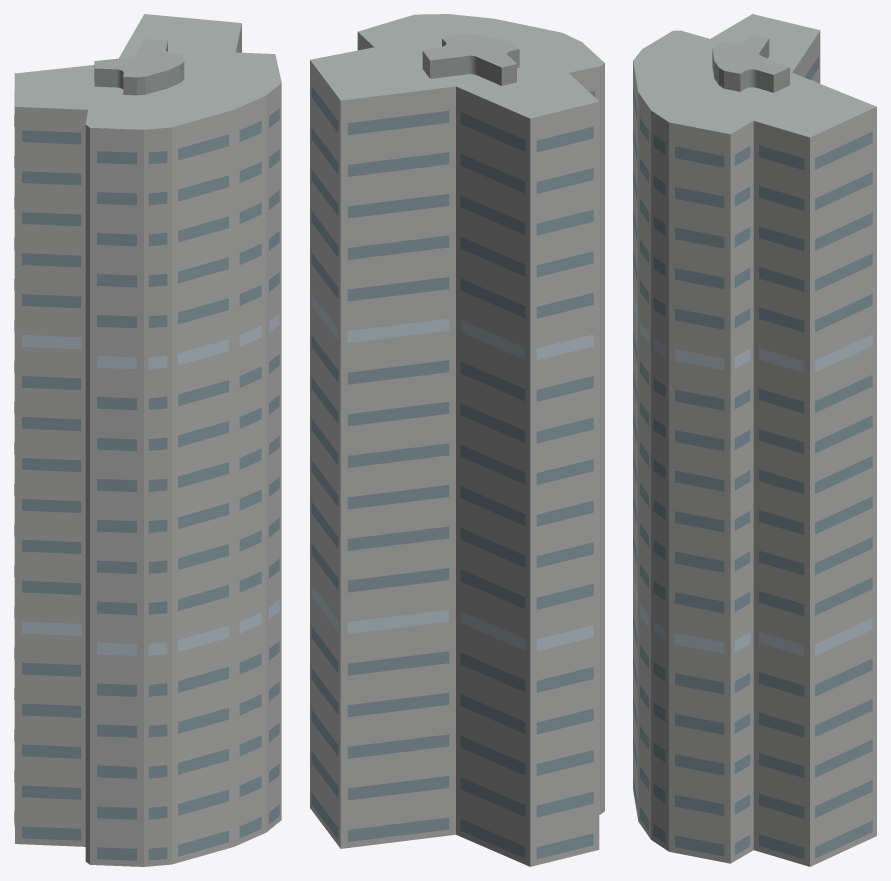
File: fallback-jamsil-parkrio-114.glb
The picture shows the model from 3 angles, left to right: view 1: azimuth 30°, elevation 25°; view 2: azimuth 150°, elevation 25°; view 3: azimuth 270°, elevation 25°; orthographic projection. The views are drawn at different scales.
Parts seen in each view (by area): view 1: fallback-jamsil-parkrio-114; view 2: fallback-jamsil-parkrio-114; view 3: fallback-jamsil-parkrio-114.
Boxes of the visible parts, x1,y1,x2,y2 form: fallback-jamsil-parkrio-114: (14, 14, 281, 866); fallback-jamsil-parkrio-114: (310, 14, 604, 866); fallback-jamsil-parkrio-114: (633, 14, 876, 866).
Size of the model in its own units: 35.47 by 100 by 29.56.
